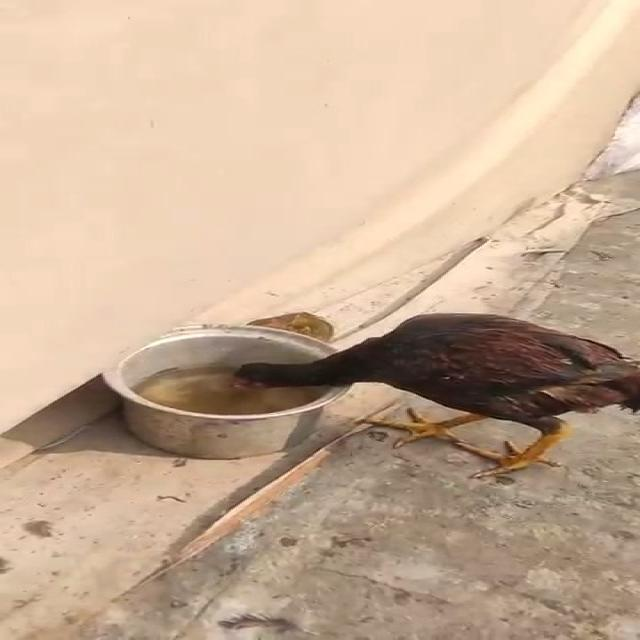drinking: (227, 300, 640, 496)
